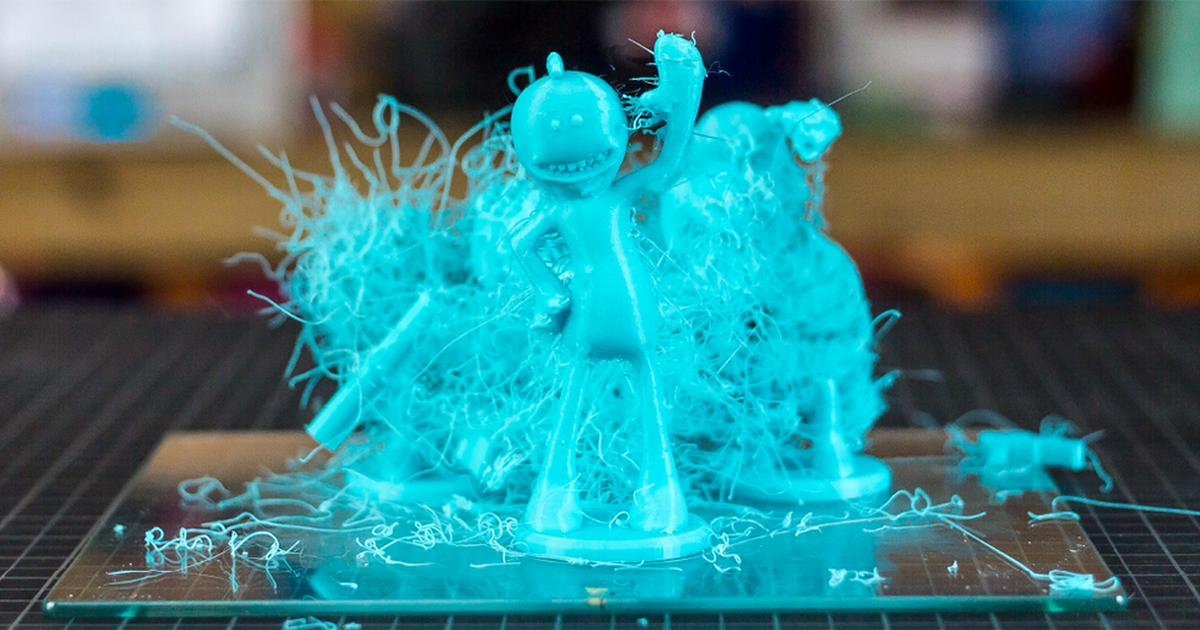Printing-Artifact: (664, 151, 868, 460), (284, 135, 507, 410)
